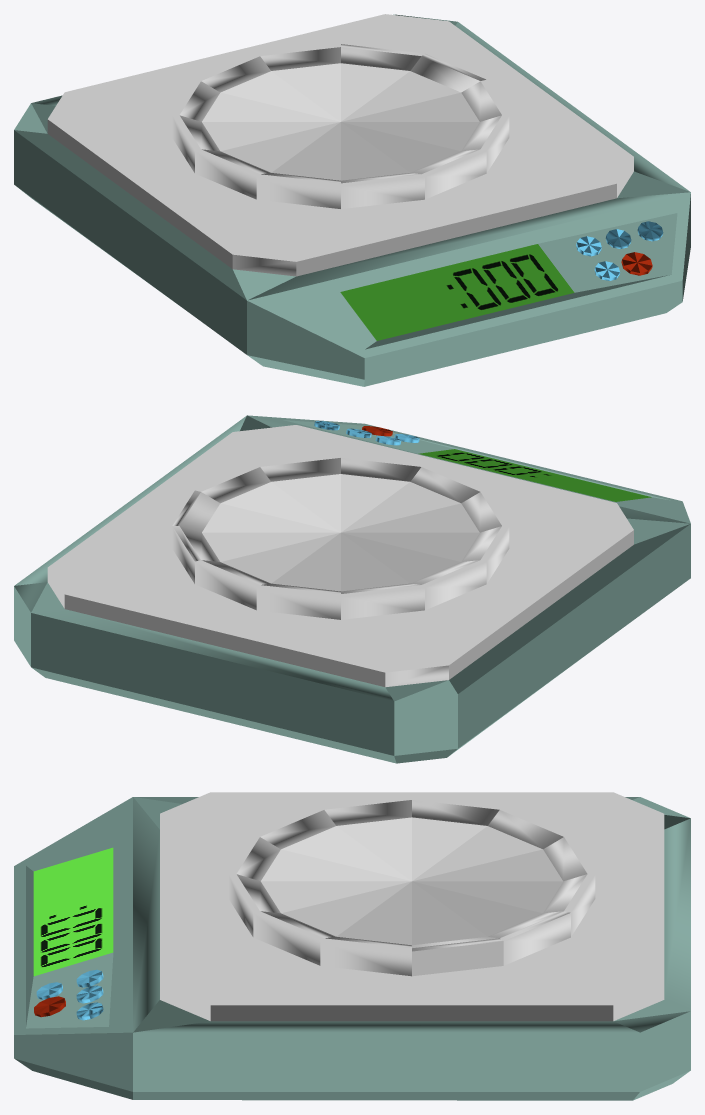
The model's file is weighs_electronic.fbx.
3 renders of one model, top to bottom at view 1: azimuth 30°, elevation 25°; view 2: azimuth 150°, elevation 25°; view 3: azimuth 270°, elevation 25°, orthographic. The views are drawn at different scales.
Parts seen in each view (by area): view 1: Weighs_electronic; view 2: Weighs_electronic; view 3: Weighs_electronic.
Boxes of the visible parts, left/top/right/bottom form: Weighs_electronic: left=14, top=14, right=690, bottom=386; Weighs_electronic: left=14, top=415, right=690, bottom=763; Weighs_electronic: left=14, top=792, right=690, bottom=1100.
Size of the model in its own units: 20 by 4.61 by 24.27.
Materials: 1 (1 with a texture image).
